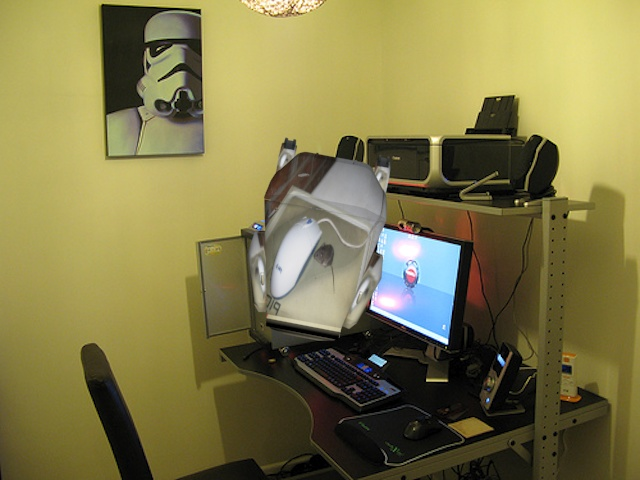back_pack: (240, 129, 400, 352)
